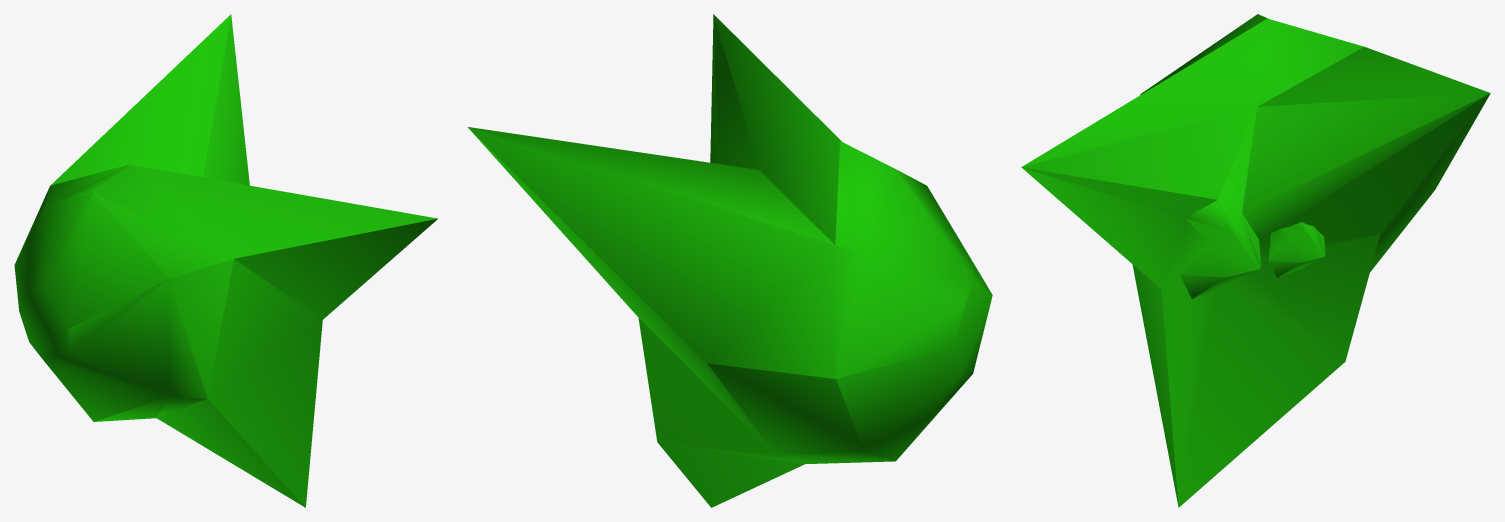
File: goreLeftHand.fbx
3 views of the same model, side by side, from view 1: azimuth 30°, elevation 25°; view 2: azimuth 150°, elevation 25°; view 3: azimuth 270°, elevation 25° (orthographic). The views are drawn at different scales.
Parts seen in each view (by area): view 1: goreLeftHand; view 2: goreLeftHand; view 3: goreLeftHand.
Boxes of the visible parts, left/top/right/bottom form: goreLeftHand: left=14, top=14, right=437, bottom=507; goreLeftHand: left=468, top=14, right=992, bottom=507; goreLeftHand: left=1021, top=14, right=1490, bottom=507.
Bounding box in the file's own units: 16.12 × 19.37 × 18.39.
Materials: 1 (1 with a texture image).
